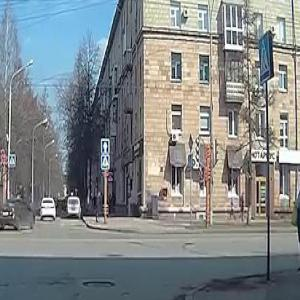superficial: (0, 178, 37, 242)
